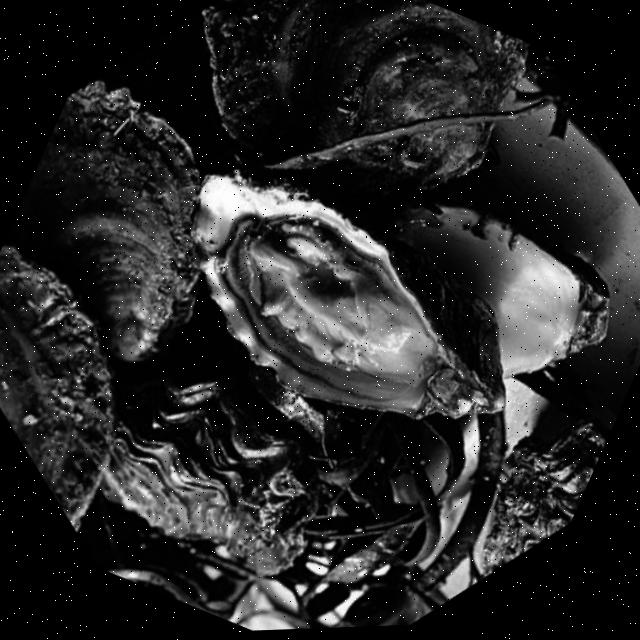Oyster-Closed: (85, 334, 344, 592)
Oyster-Indeterminate: (182, 0, 556, 218), (0, 59, 220, 378), (0, 229, 129, 548), (451, 381, 633, 591)
Oyster-Open: (168, 148, 528, 441), (366, 166, 640, 400)
